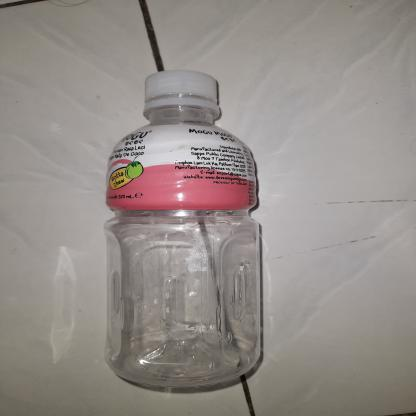bottle: (93, 63, 272, 396)
